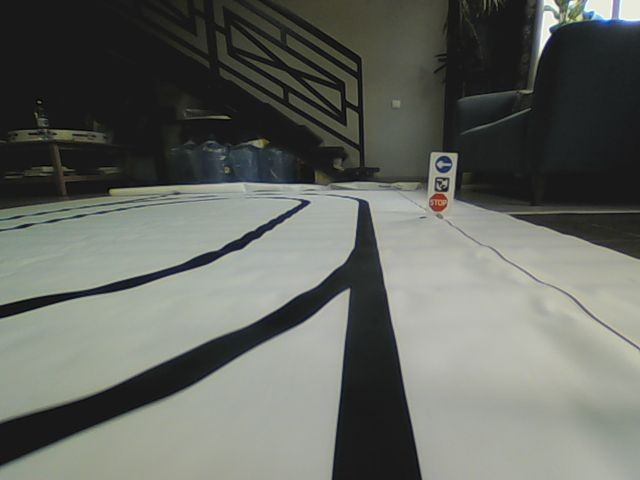Stop: (428, 193, 449, 212)
